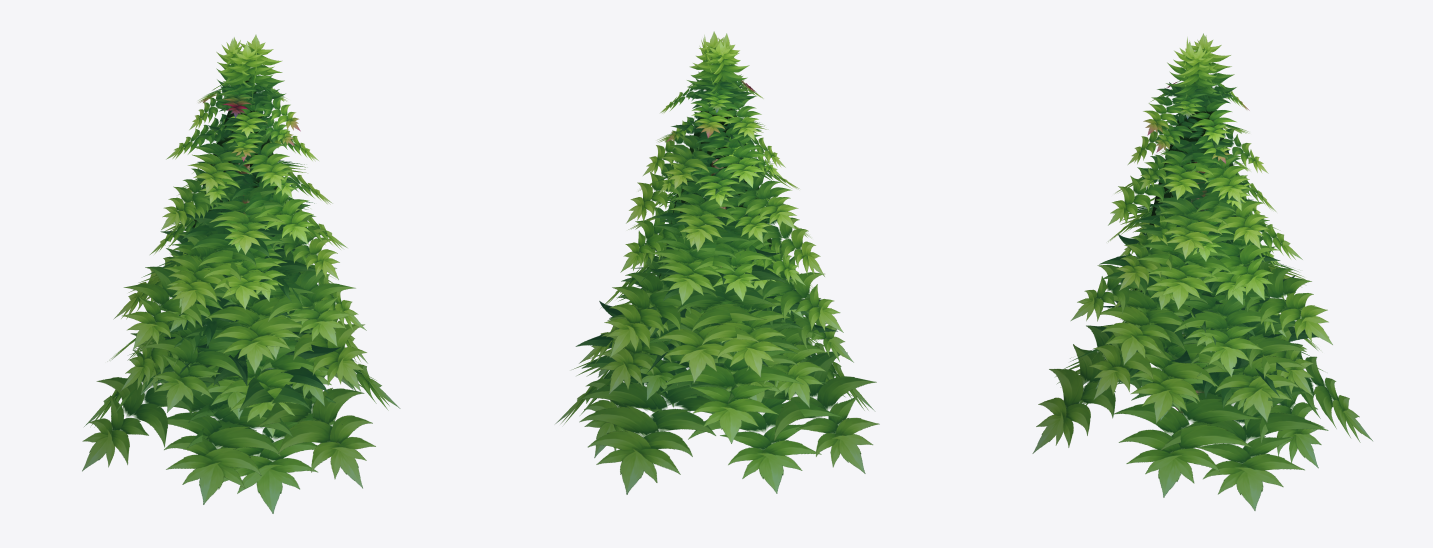
File: conifer5_e.glb
3 views of the same model, side by side, from view 1: azimuth 30°, elevation 25°; view 2: azimuth 150°, elevation 25°; view 3: azimuth 270°, elevation 25° (orthographic).
Parts seen in each view (by area): view 1: conifer; view 2: conifer; view 3: conifer.
Boxes of the visible parts, <box> form: conifer: <box>82,34,400,513</box>; conifer: <box>555,31,879,494</box>; conifer: <box>1032,33,1372,510</box>.
Bounding box in the file's own units: 4.92 × 5.28 × 5.
Materials: 2 (2 with a texture image).
